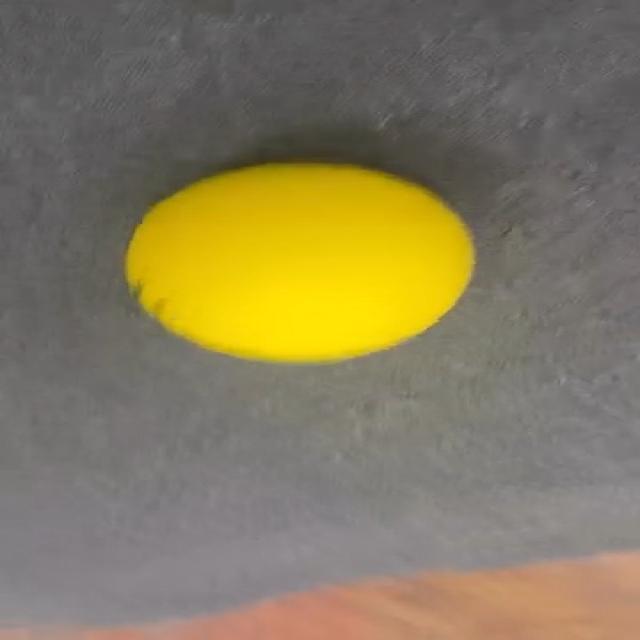Fuels: (124, 164, 478, 362)
